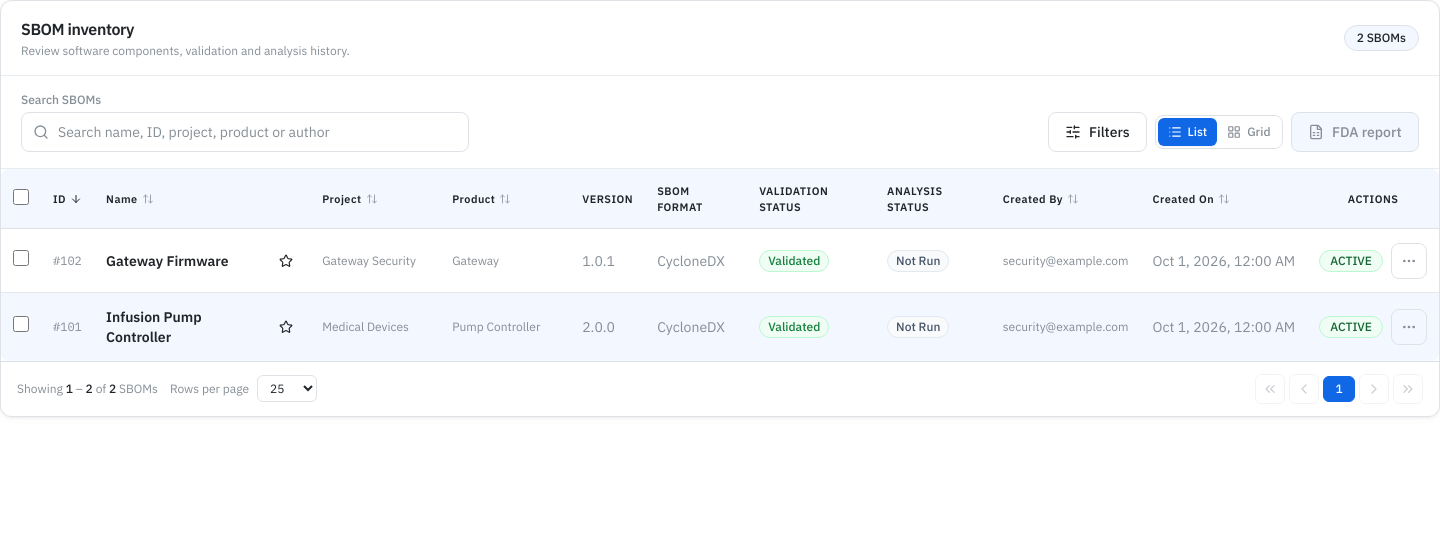
Test: SBOM inventory redesign regression › exposes advanced filters, applies a project scope and clears without losing inventory
Click the button "Filters".
click(1097, 132)  # box [1048,112,1147,152]
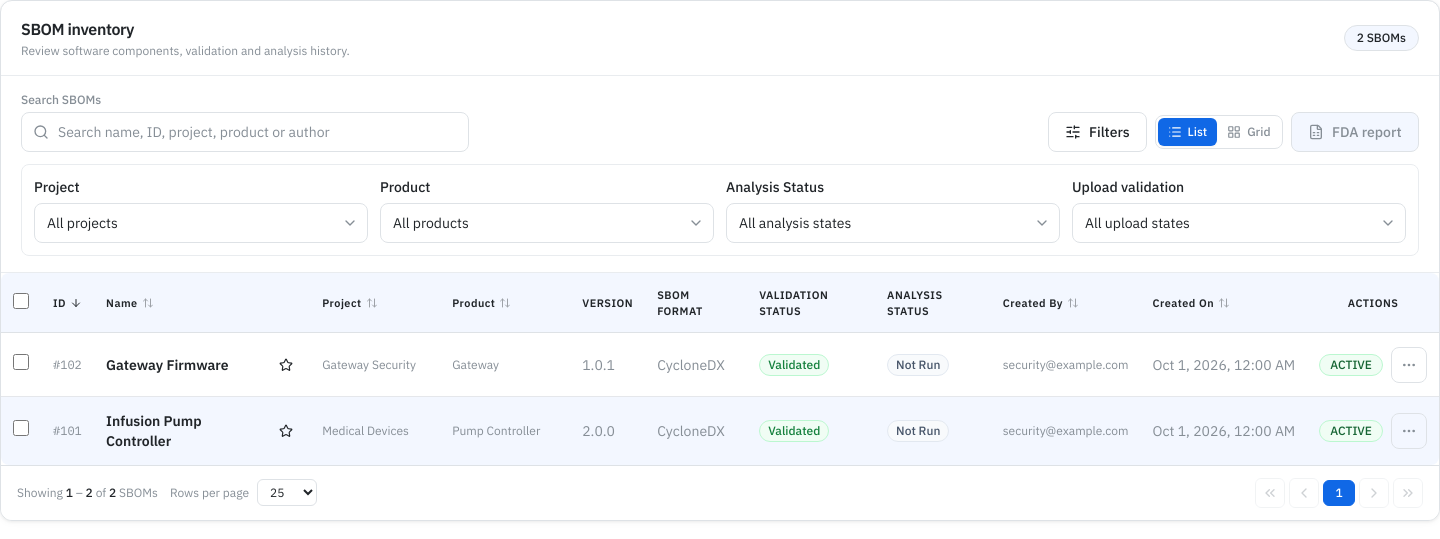
Select "Medical Devices" in the dropdown labelled "Project" at (201, 223), box [34,203,368,243]
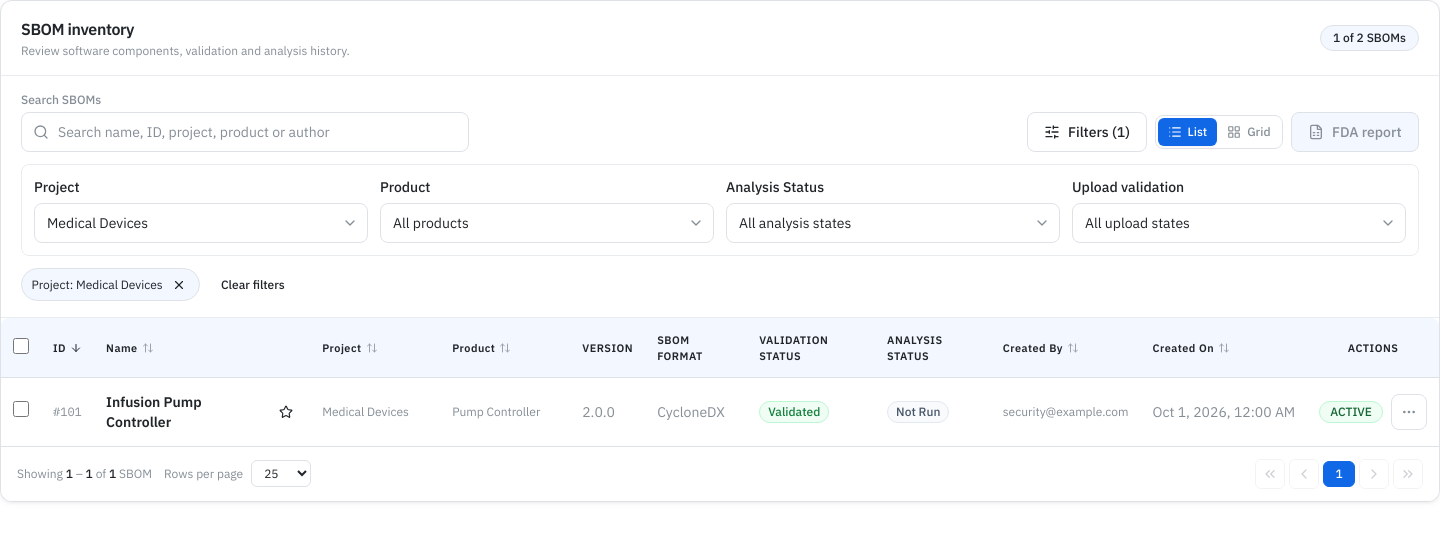
Expected: the text "1 of 2 SBOMs" is shown, [1320,25,1419,51]
Expected: the button named "Remove project filter" is shown
Expected: the link "Gateway Firmware" is gone
Click the button named "Remove project filter".
click(179, 285)  # box [169,275,189,295]
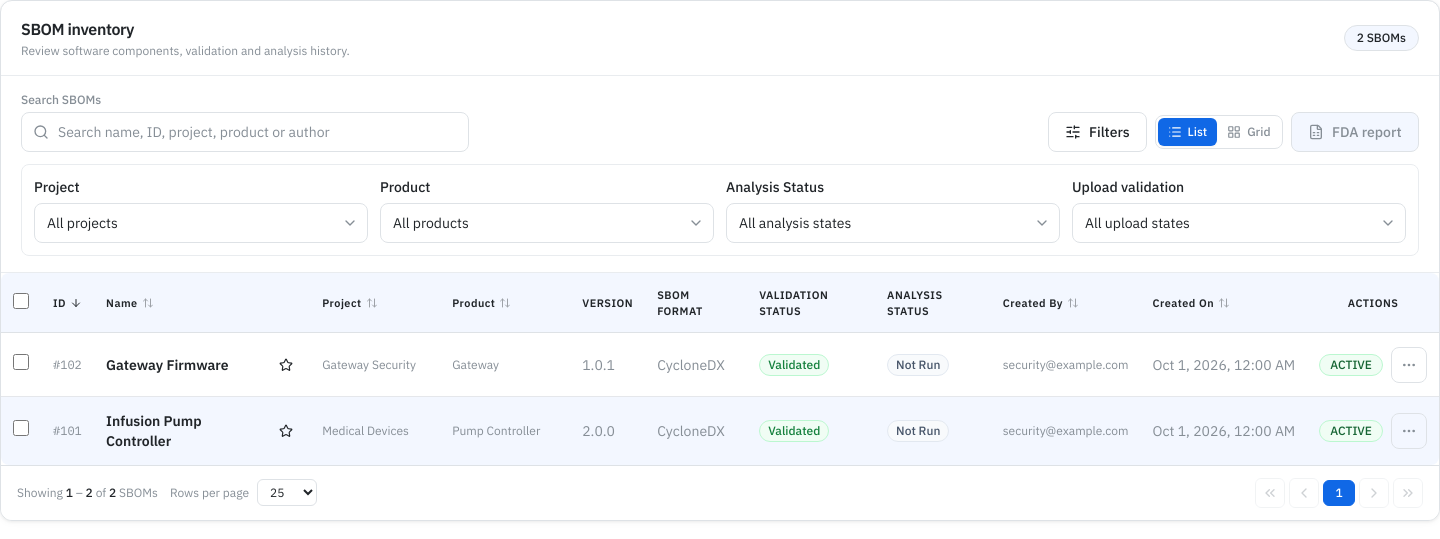
Expected: the link "Gateway Firmware" is shown, [106,356,229,374]
